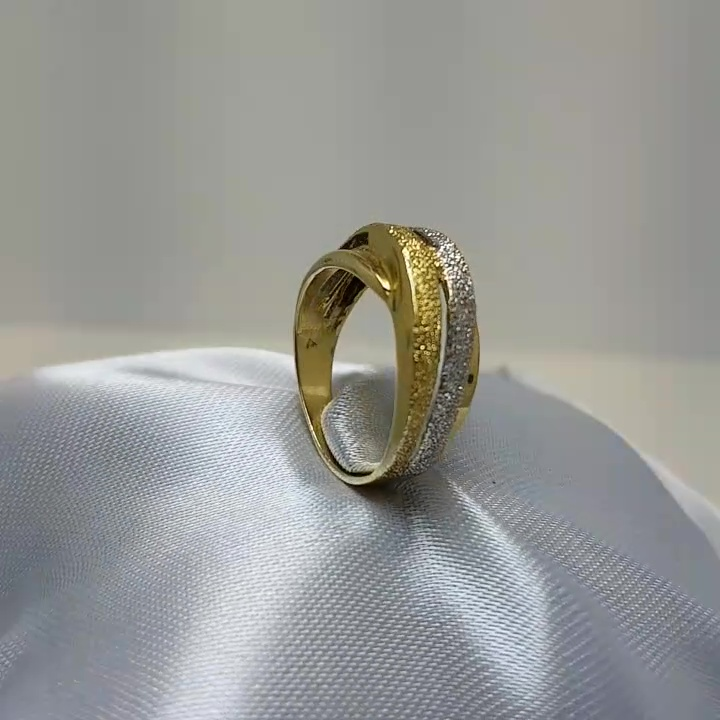Ring 5: (263, 204, 495, 535)
